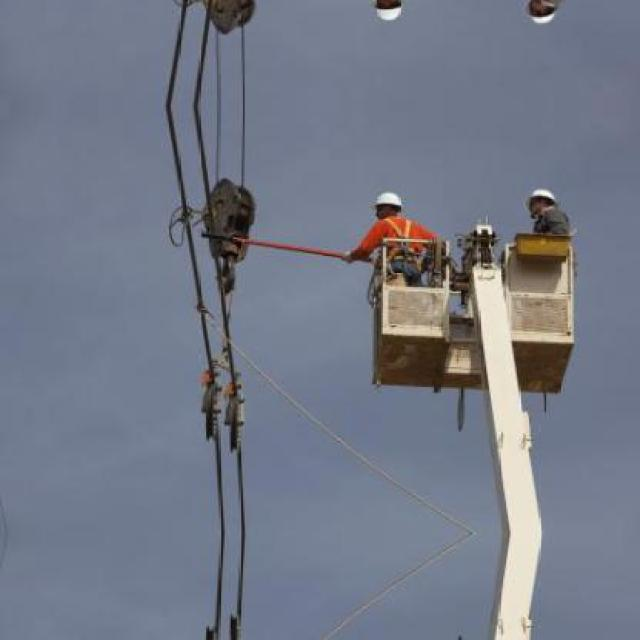helmet: (522, 183, 564, 220), (522, 0, 566, 31), (372, 188, 406, 221), (372, 0, 408, 25)
